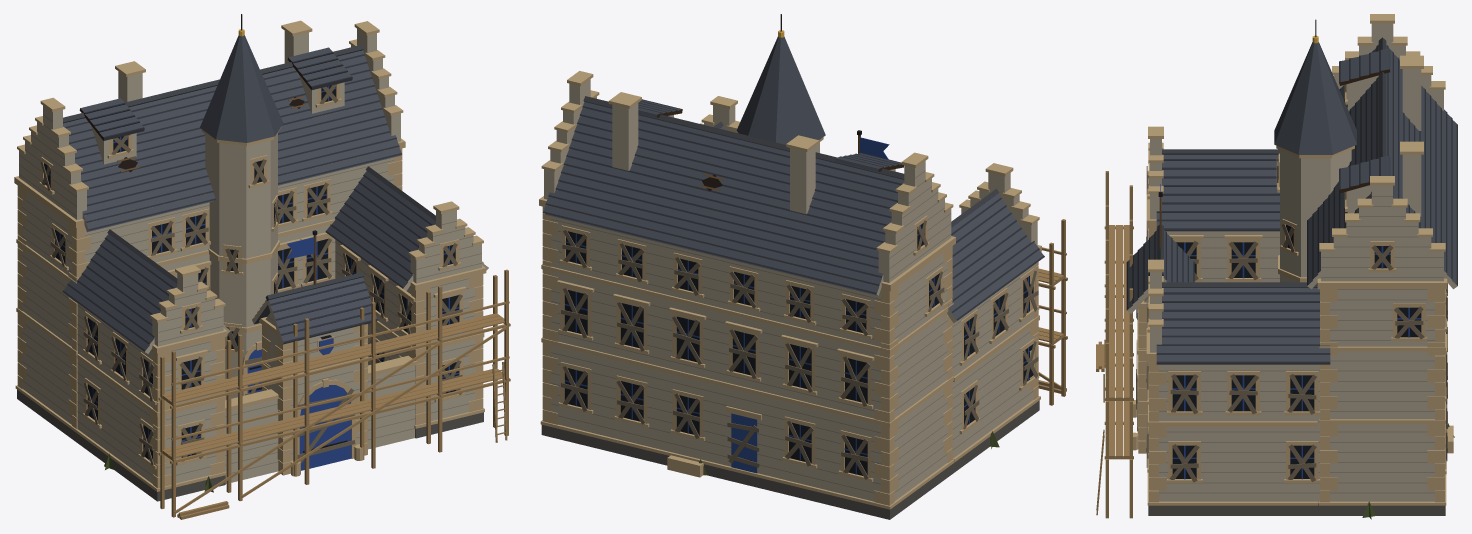
Rendered from stadthof.glb.
3 renders of one model, left to right at view 1: azimuth 30°, elevation 25°; view 2: azimuth 150°, elevation 25°; view 3: azimuth 270°, elevation 25°, orthographic. The views are drawn at different scales.
Parts seen in each view (by area): view 1: Haus, Geruest, Leerstand, Fahne; view 2: Haus, Leerstand, Geruest; view 3: Haus, Geruest, Leerstand.
Part boxes in pixels (<box>): Haus: <box>14,14,488,501</box>; Geruest: <box>158,269,510,519</box>; Leerstand: <box>40,84,462,492</box>; Fahne: <box>287,230,317,284</box>; Haus: <box>539,14,1044,519</box>; Leerstand: <box>561,174,1038,479</box>; Geruest: <box>1038,219,1067,405</box>; Haus: <box>1126,14,1457,515</box>; Geruest: <box>1096,171,1133,518</box>; Leerstand: <box>1136,84,1454,519</box>.
Bounding box in the file's own units: 15.74 × 17 × 13.54.
